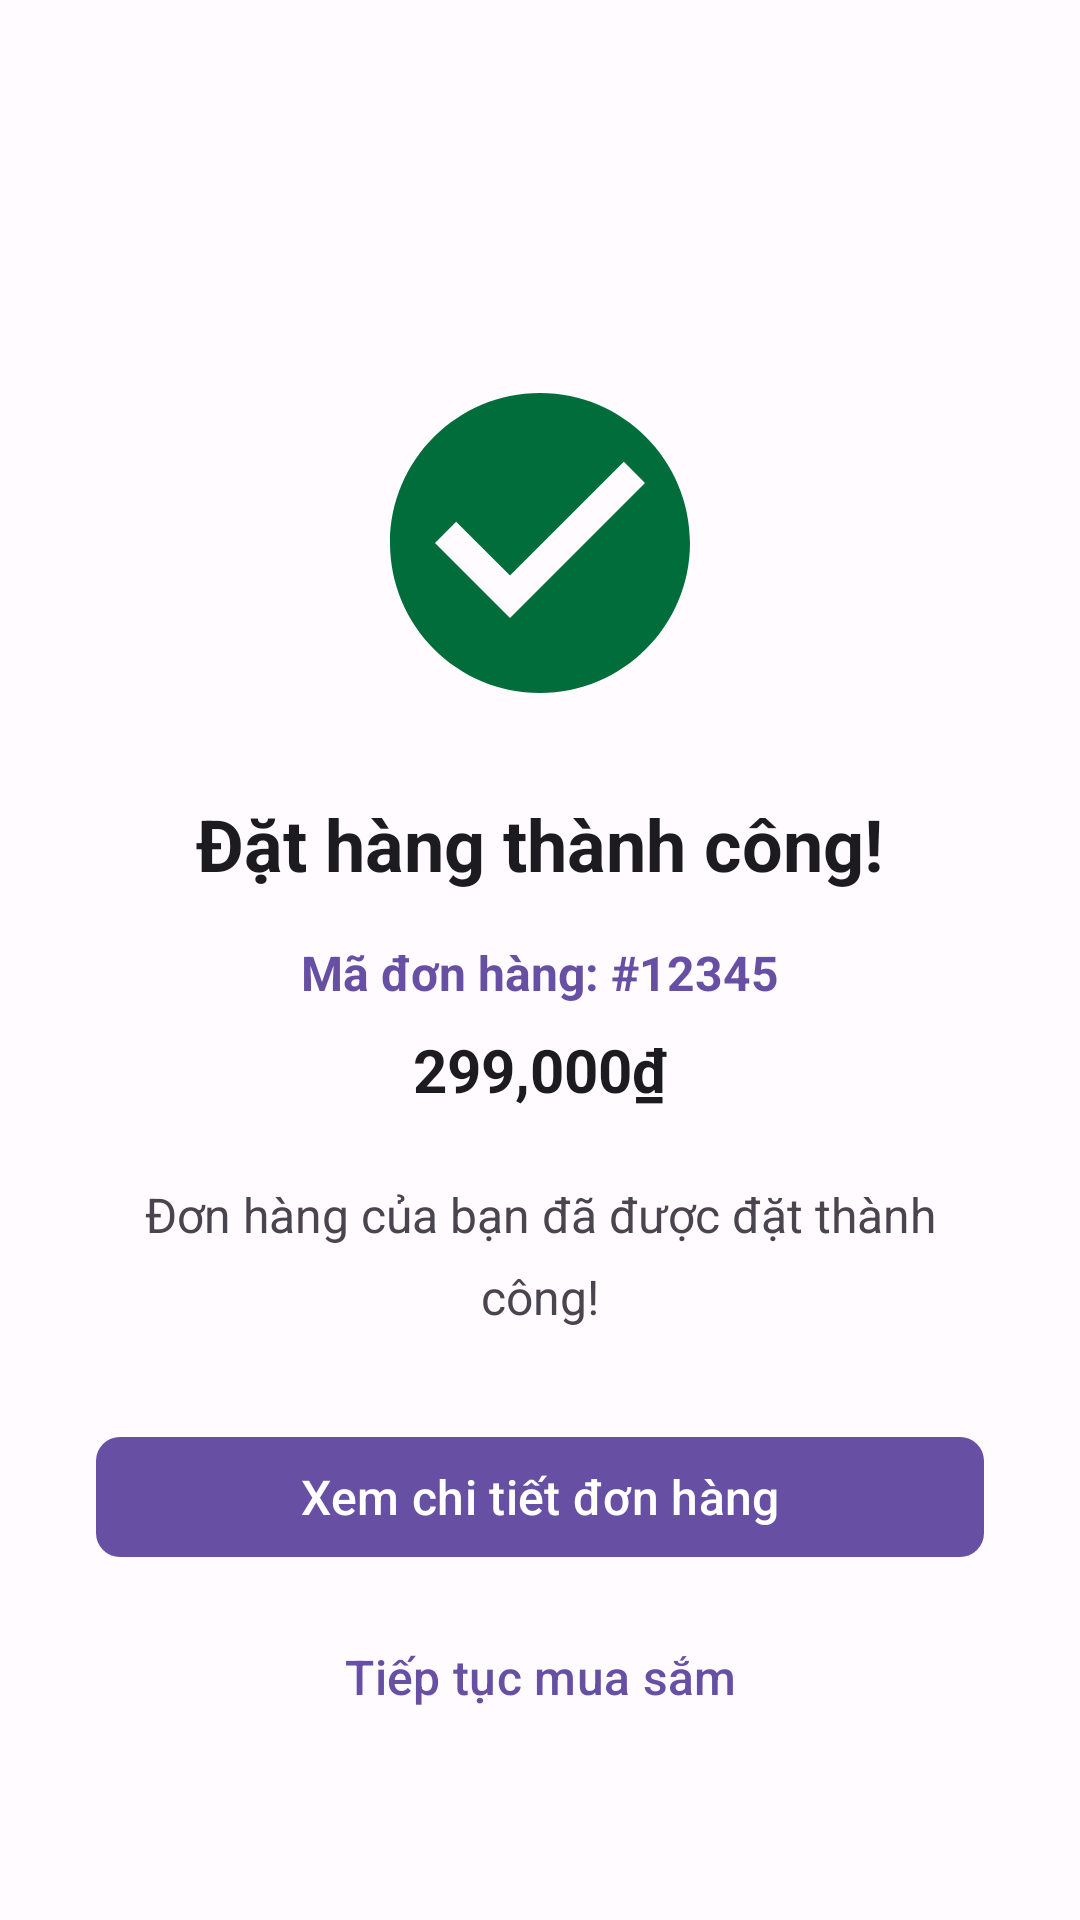

Named icons in this screenshot (1080x1920) and their bounding boxes, region(x1, y1, x2, y2):
check circle: region(390, 393, 690, 693)
